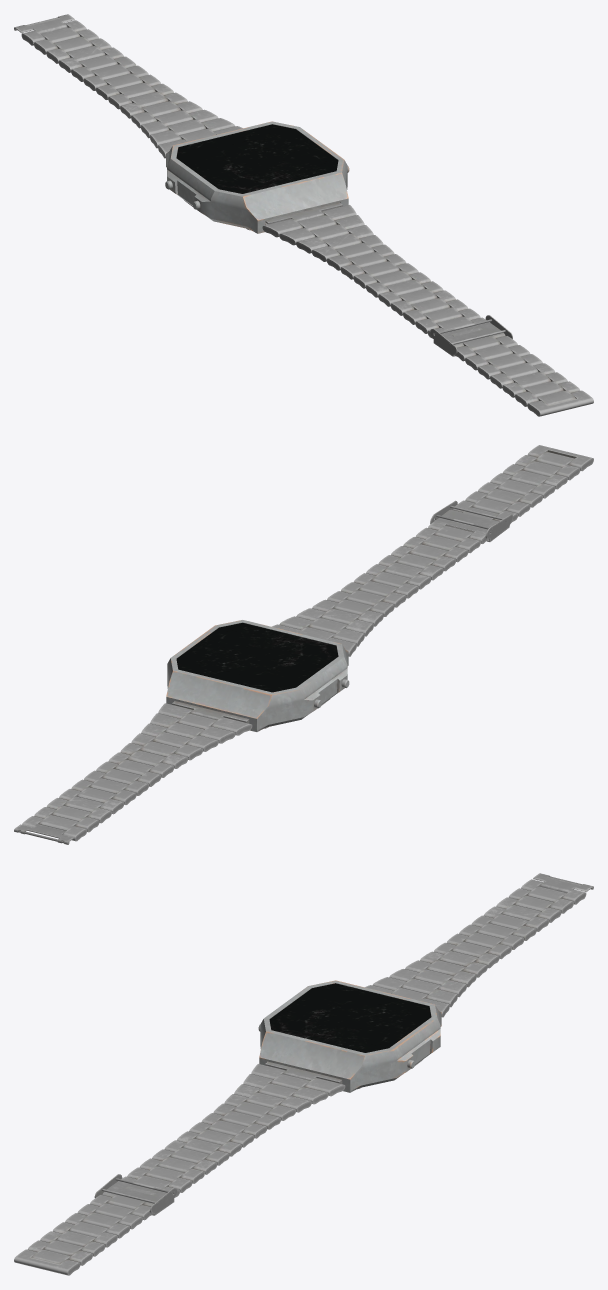
The model's file is digital_wrist_watch.glb.
3 views of the same model, one above another, from view 1: azimuth 30°, elevation 25°; view 2: azimuth 150°, elevation 25°; view 3: azimuth 330°, elevation 25° (orthographic).
Parts seen in each view (by area): view 1: digital_wrist_watch; view 2: digital_wrist_watch; view 3: digital_wrist_watch.
Part boxes in pixels (x1=…): digital_wrist_watch: x1=14, y1=14, x2=593, y2=416; digital_wrist_watch: x1=14, y1=445, x2=593, y2=844; digital_wrist_watch: x1=14, y1=873, x2=593, y2=1275.
Size of the model in its own units: 0.0365 by 0.00835 by 0.2172.
Materials: 2 (2 with a texture image).
